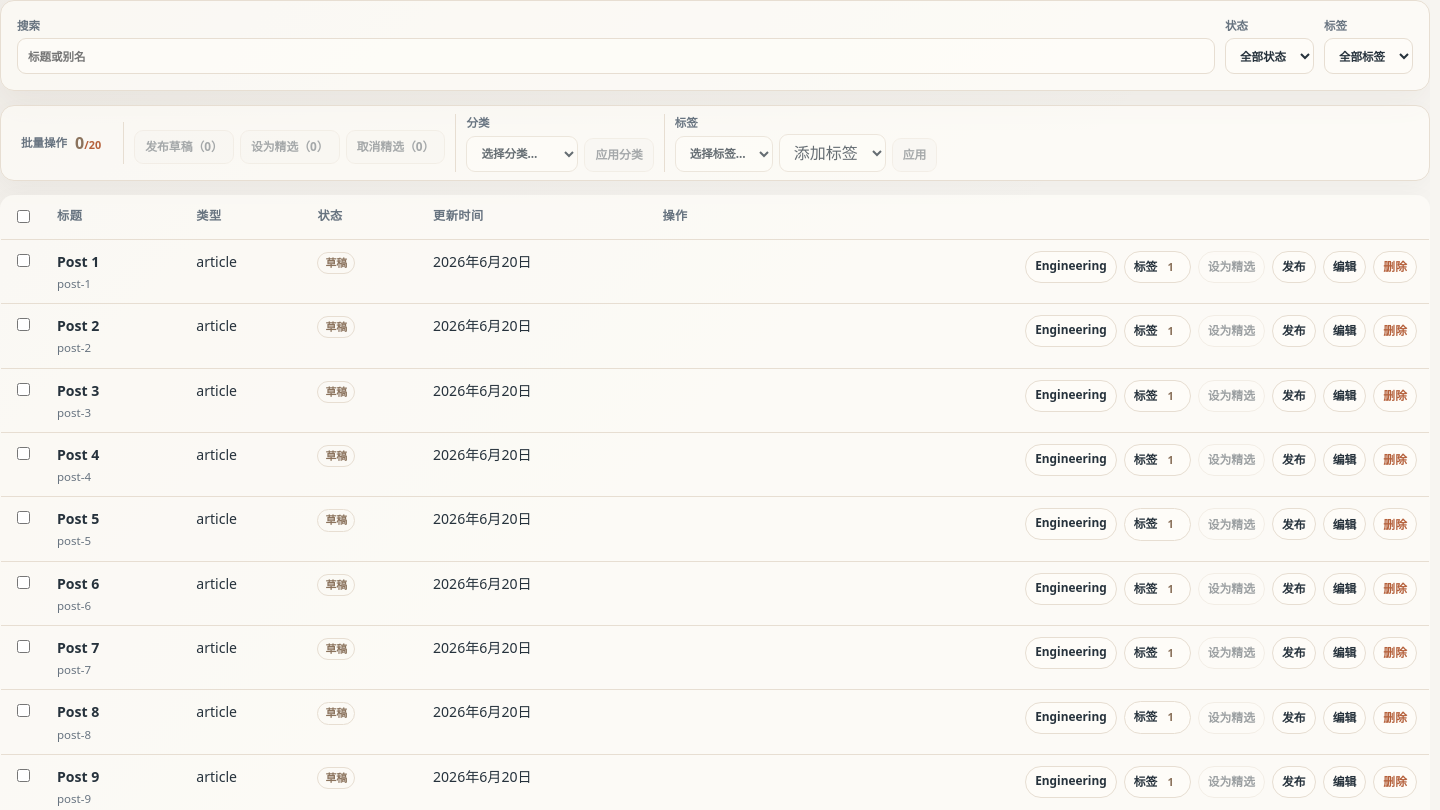
it: PostListTable › limits select-visible batch selection to twenty posts
Click the checkbox with test id "post-select-visible". click: (24, 216)
box: [17,210,30,222]
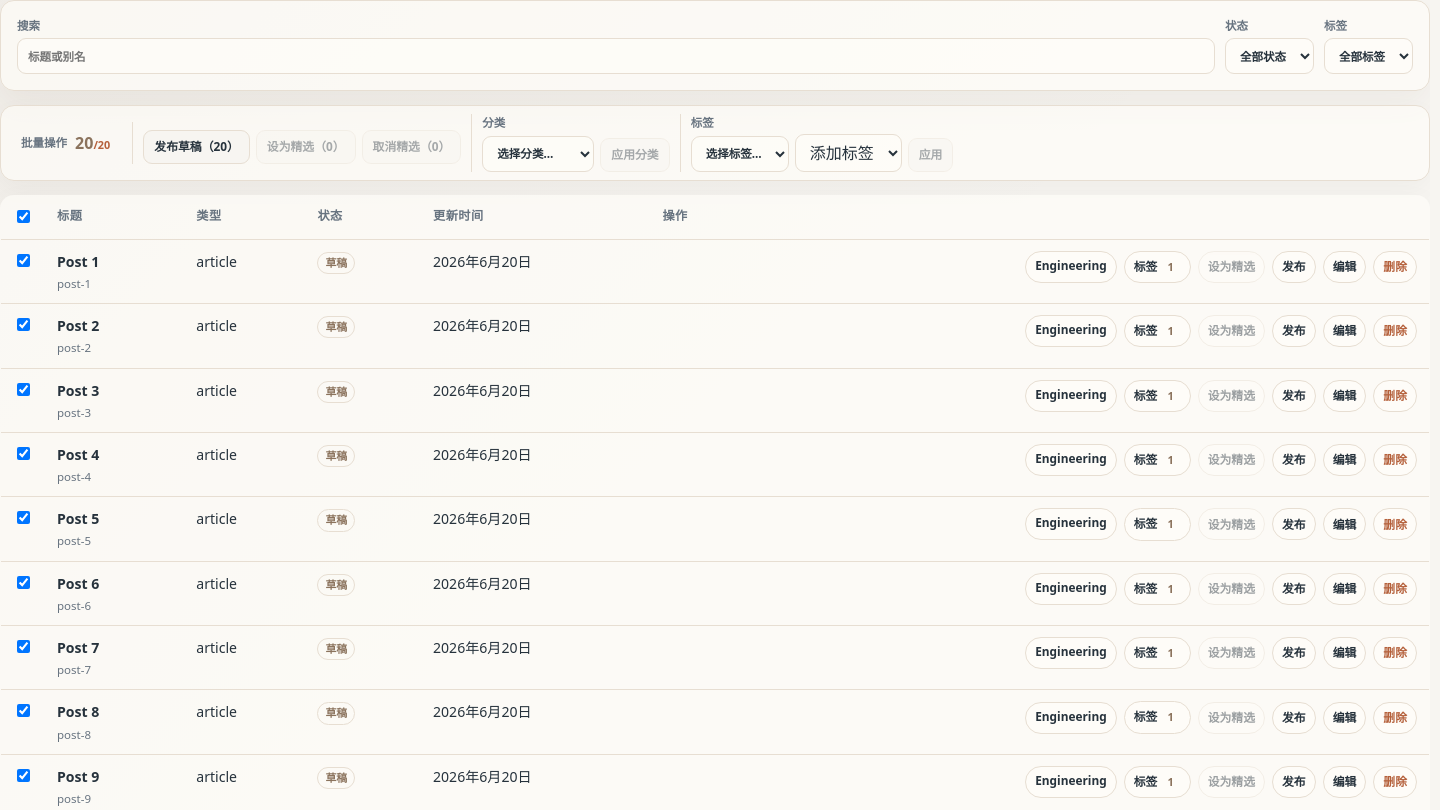
Expected: the element with test id "post-bulk-toolbar" shows "批量操作", [21,135,67,150]
Expected: the element with test id "post-bulk-toolbar" shows "20/20", [0,105,1430,181]
